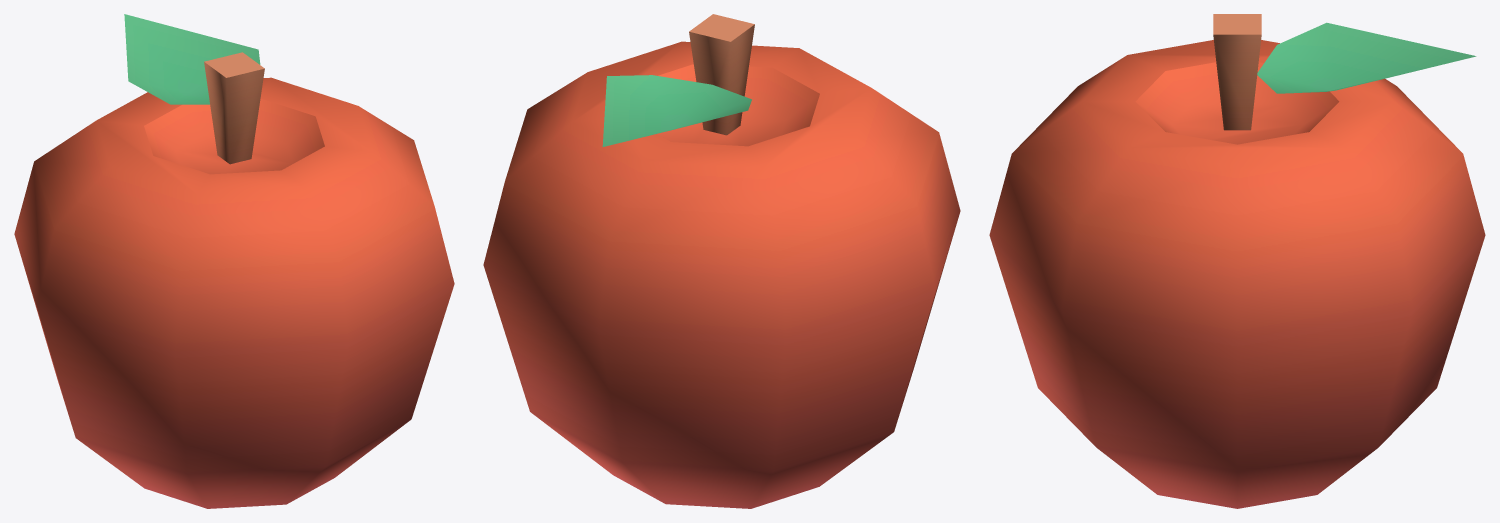
Rendered from k-food-apple.glb.
3 views of the same model, side by side, from view 1: azimuth 30°, elevation 25°; view 2: azimuth 150°, elevation 25°; view 3: azimuth 270°, elevation 25° (orthographic). The views are drawn at different scales.
Parts seen in each view (by area): view 1: apple; view 2: apple; view 3: apple.
Part boxes in pixels (x1,y1,x2,y2): apple: (14,14,454,508); apple: (483,14,960,508); apple: (989,14,1485,508).
Bounding box in the file's own units: 0.1963 × 0.1908 × 0.1963.
Materials: 1 (1 with a texture image).
